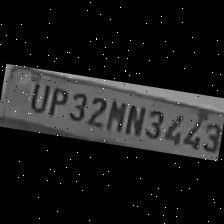2: (84, 91, 108, 128)
3: (64, 86, 90, 123), (141, 103, 165, 140), (200, 116, 222, 152)
4: (180, 111, 204, 149), (162, 108, 186, 144)
M: (104, 94, 128, 133)
N: (122, 98, 145, 136)
P: (44, 82, 68, 118)
U: (24, 78, 50, 114)
